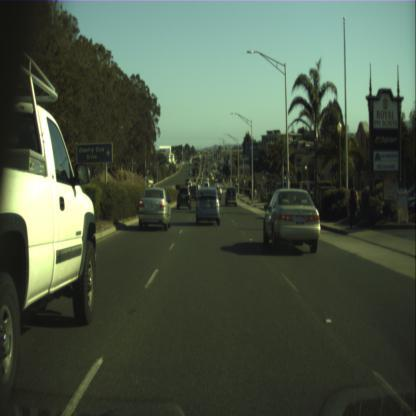Green: (202, 156, 204, 160)
RedLeft: (192, 156, 194, 160)
